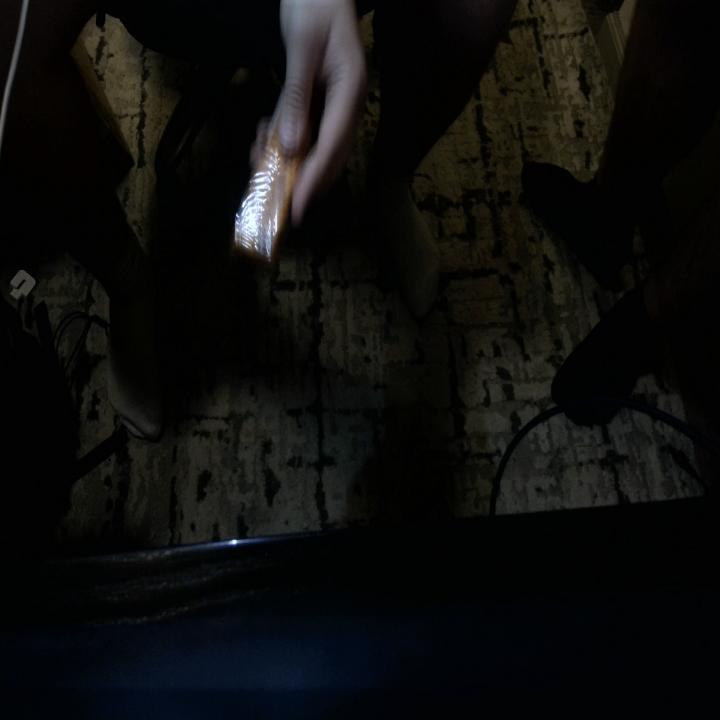Crackers: (230, 91, 320, 270)
